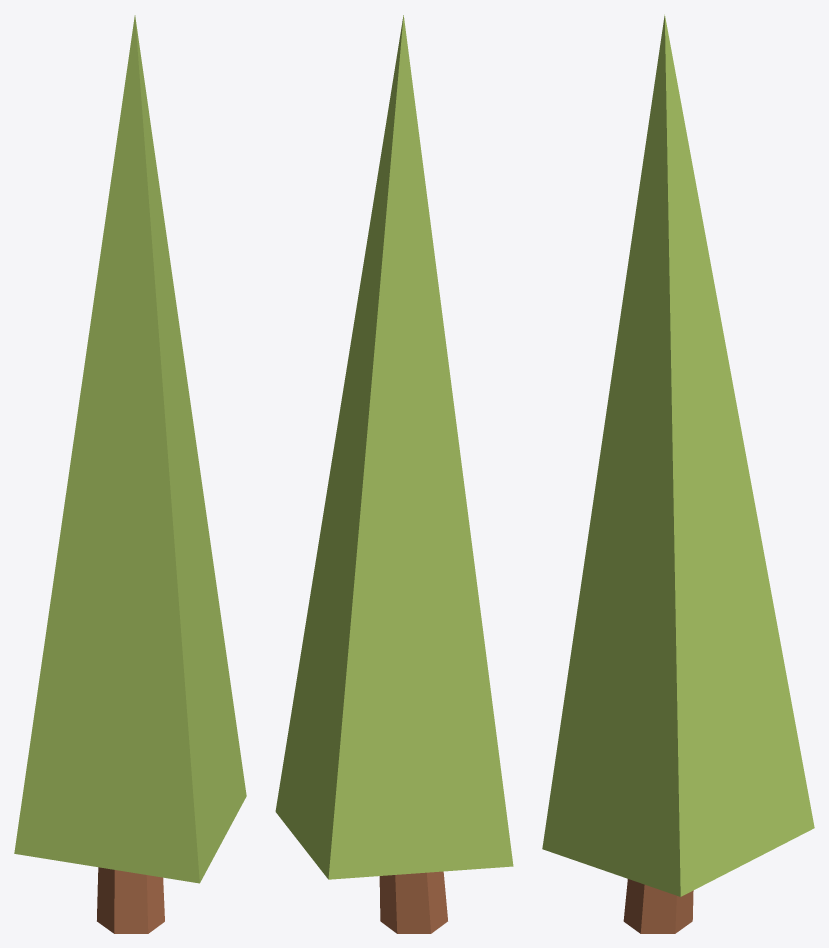
Rendered from Tree_5.fbx.
3 renders of one model, left to right at view 1: azimuth 30°, elevation 25°; view 2: azimuth 150°, elevation 25°; view 3: azimuth 270°, elevation 25°, orthographic.
Visible parts, largest first — view 1: Cone.004; view 2: Cone.004; view 3: Cone.004.
Part boxes in pixels (left/top/right/bottom): Cone.004: left=14, top=15, right=246, bottom=933; Cone.004: left=275, top=15, right=513, bottom=933; Cone.004: left=542, top=14, right=814, bottom=933.
Size of the model in its own units: 133 by 491 by 133.
